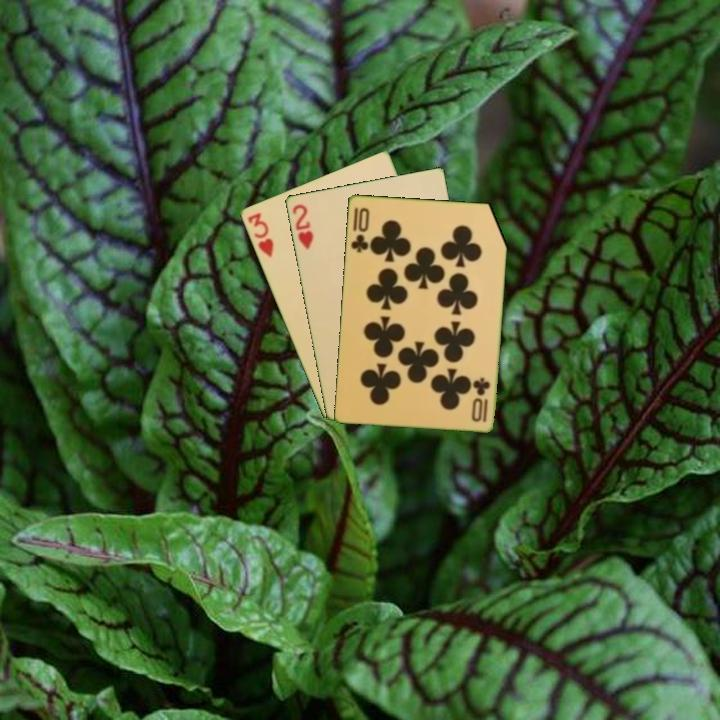10c: (347, 204, 372, 255), (471, 374, 493, 425)
2h: (289, 200, 316, 252)
3h: (244, 209, 276, 260)
